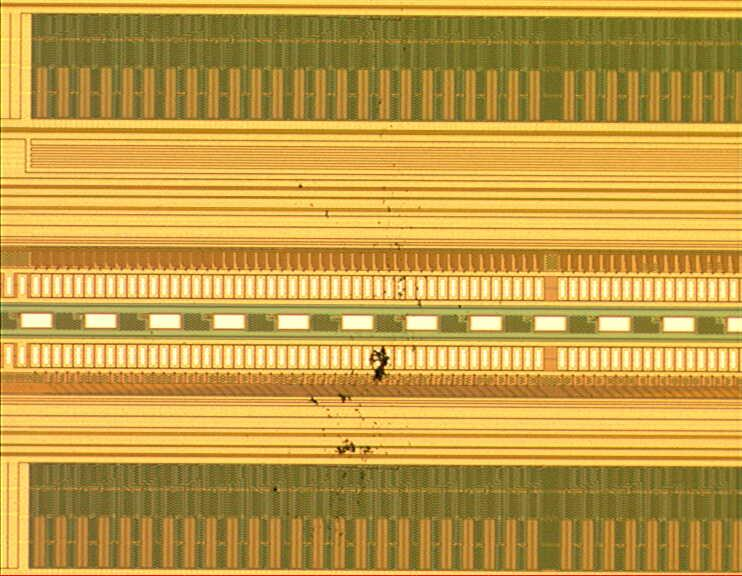PO CONTAMINATION: (264, 43, 481, 551)
